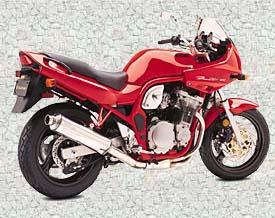Motorcycle: (11, 18, 275, 206)
